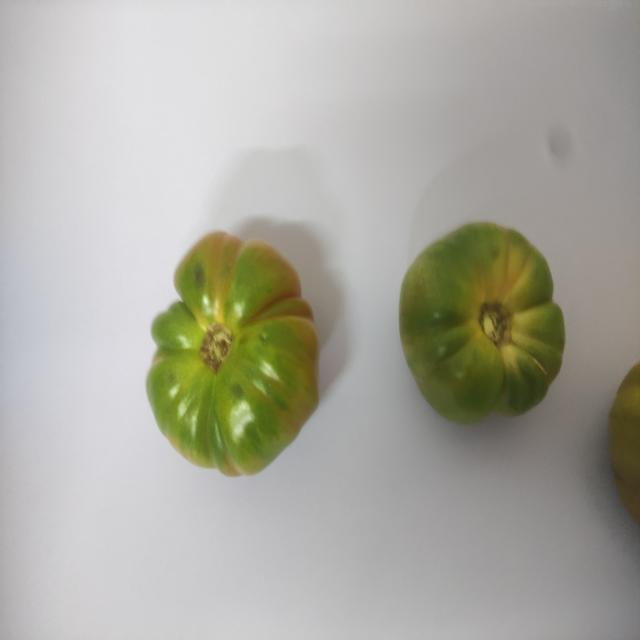unripe tomato: (134, 225, 332, 498), (380, 223, 574, 424)
